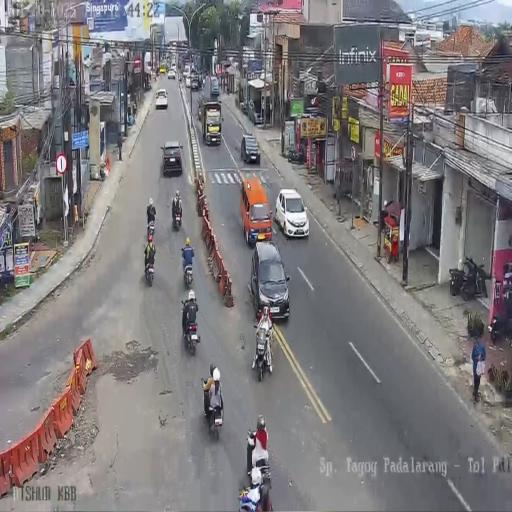3: (197, 96, 223, 147), (183, 57, 190, 72)
car: (249, 239, 290, 322), (239, 175, 271, 248), (276, 188, 310, 238), (161, 140, 184, 176), (240, 132, 261, 164), (155, 88, 168, 110), (210, 77, 219, 96), (191, 74, 199, 90), (168, 68, 175, 80), (185, 74, 191, 88), (160, 63, 166, 74)
truck: (449, 253, 488, 301), (251, 318, 274, 382), (202, 377, 224, 437), (489, 296, 512, 342), (182, 305, 199, 353), (182, 248, 194, 288), (286, 144, 304, 164), (172, 199, 182, 229), (146, 217, 156, 245), (145, 255, 154, 286)
